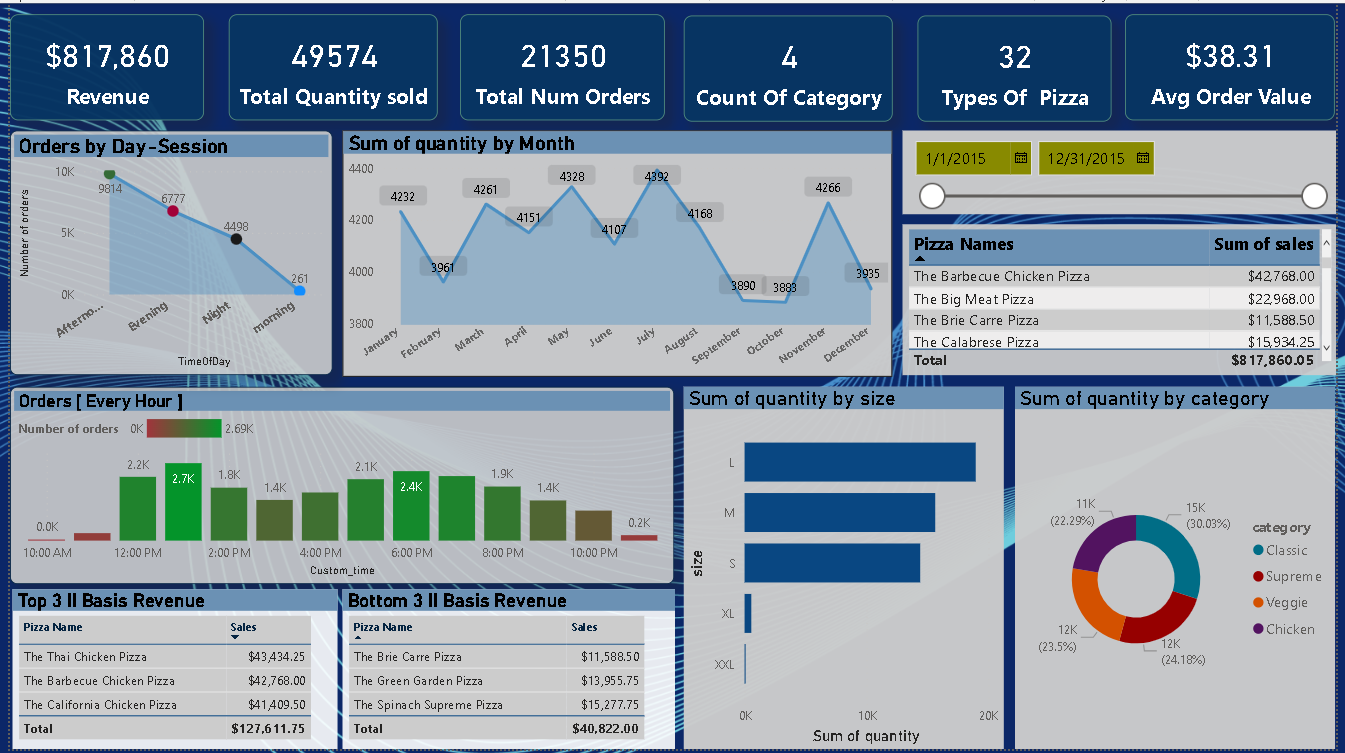

The page's visual inventory and layout, read from the dashboard file:
{"tool":"powerbi","page":{"name":"Page 1","canvas":[1280,720],"ordinal":0},"visuals":[{"type":"card","fields":{"Values":["Sum(order_details.quantity)"]},"box":[211.1,10.9,201.4,102.5],"z":0},{"type":"columnChart","title":"Orders [ Every Hour ]","fields":{"Category":["orders.Custom_time"],"Y":["order_details.Number of orders"]},"box":[0,370.3,640.4,190.6],"z":1000},{"type":"card","fields":{"Values":["Sum(order_details.sales)"]},"box":[0,10.9,186.9,102.5],"z":2000},{"type":"card","fields":{"Values":["order_details.Number of orders"]},"box":[434.2,10.9,197.8,102.5],"z":3000},{"type":"card","fields":{"Values":["Count(pizza_types.category)"]},"box":[650.1,12.1,201.4,102.5],"z":4000},{"type":"card","fields":{"Values":["Count(pizza_types.pizza_type_id)"]},"box":[875.6,12.1,186.9,102.5],"z":5000},{"type":"card","fields":{"Values":["order_details.Avg Order Value"]},"box":[1075.8,10.9,202.6,102.5],"z":6000},{"type":"barChart","fields":{"Category":["pizzas.size"],"Y":["Sum(order_details.quantity)"]},"box":[650.1,370.3,308.7,349.7],"z":7000},{"type":"donutChart","fields":{"Category":["pizza_types.category"],"Y":["Sum(order_details.quantity)"]},"box":[969.6,370.3,308.7,349.7],"z":8000},{"type":"tableEx","title":"Top 3 II Basis Revenue","fields":{"Values":["pizza_types.name","Sum(order_details.sales)"]},"box":[2.4,565.6,313.6,154.4],"z":9000},{"type":"areaChart","title":"Orders by Day-Session ","fields":{"Category":["orders.TimeOfDay"],"Y":["order_details.Number of orders"]},"box":[0,123,311.2,236.4],"z":10000},{"type":"tableEx","title":"Bottom 3 II Basis Revenue","fields":{"Values":["pizza_types.name","Sum(order_details.sales)"]},"box":[320.8,565.6,320.8,154.4],"z":11000},{"type":"slicer","fields":{"Values":["orders.date"]},"box":[861.1,123,418.5,80.8],"z":12000},{"type":"areaChart","title":"Sum of quantity by Month","fields":{"Category":["orders.date.Variation.Date Hierarchy.Month"],"Y":["Sum(order_details.quantity)"]},"box":[320.8,123,530.7,237.6],"z":13000},{"type":"tableEx","fields":{"Values":["pizza_types.name","Sum(order_details.sales)"]},"box":[861.1,213.5,418.5,145.9],"z":14000}]}

Visuals, with their boxes in screenshot pixels (x1, y1, x2, y2), scaled from the page's 1280x720 canvas onto the 1345x753 screenshot:
card - Sum(order_details.quantity): bbox=[222, 11, 433, 119]
"Orders [ Every Hour ]" columnChart: bbox=[0, 387, 673, 587]
card - Sum(order_details.sales): bbox=[0, 11, 196, 119]
card - order_details.Number of orders: bbox=[456, 11, 664, 119]
card - Count(pizza_types.category): bbox=[683, 13, 895, 120]
card - Count(pizza_types.pizza_type_id): bbox=[920, 13, 1116, 120]
card - order_details.Avg Order Value: bbox=[1130, 11, 1343, 119]
barChart - pizzas.size x Sum(order_details.quantity): bbox=[683, 387, 1007, 752]
donutChart - pizza_types.category x Sum(order_details.quantity): bbox=[1019, 387, 1343, 752]
"Top 3 II Basis Revenue" tableEx: bbox=[3, 592, 332, 752]
"Orders by Day-Session " areaChart: bbox=[0, 129, 327, 376]
"Bottom 3 II Basis Revenue" tableEx: bbox=[337, 592, 674, 752]
slicer - orders.date: bbox=[905, 129, 1344, 213]
"Sum of quantity by Month" areaChart: bbox=[337, 129, 895, 377]
tableEx - pizza_types.name x Sum(order_details.sales): bbox=[905, 223, 1344, 376]
